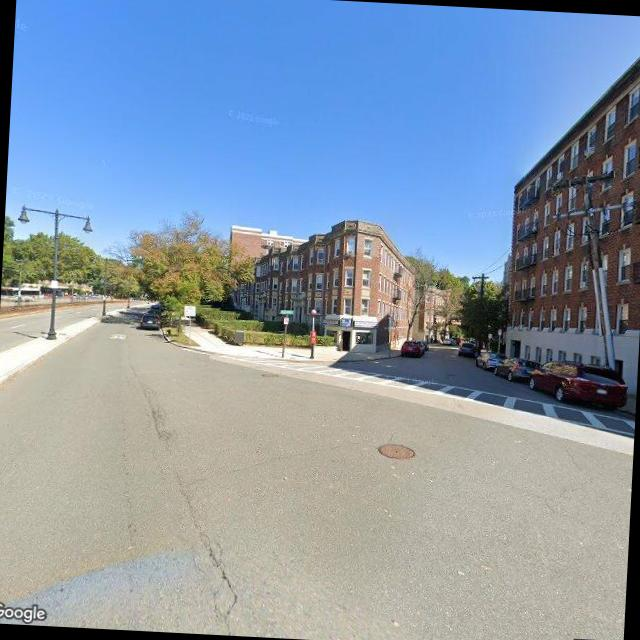pothole: (170, 492, 250, 634)
